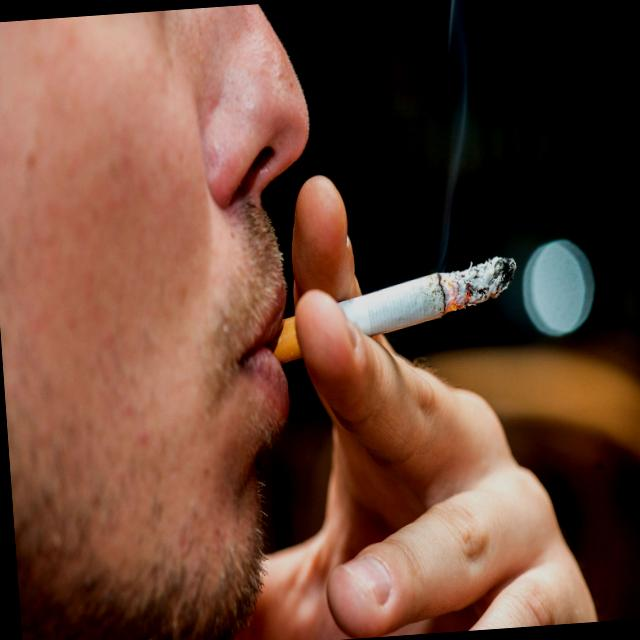cigarette: (240, 234, 532, 387)
